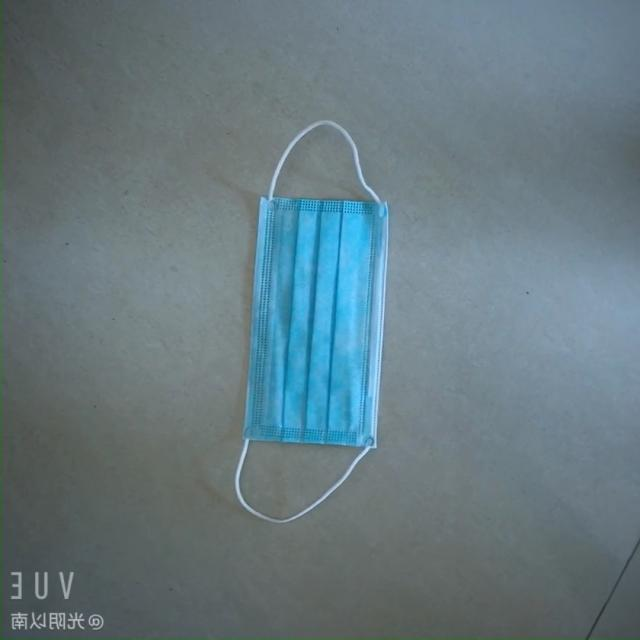face mask: (221, 172, 402, 455)
